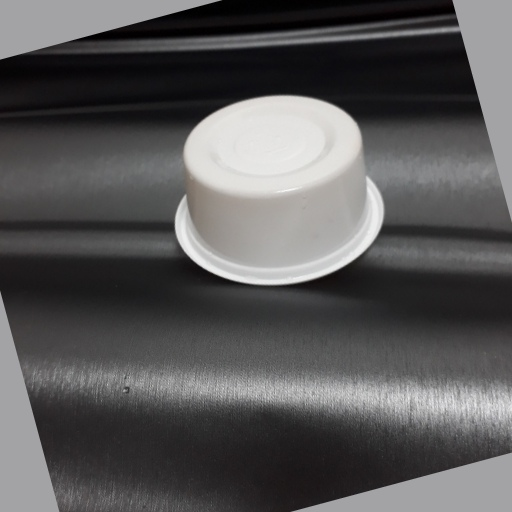Plastic_5: (165, 90, 390, 290)
